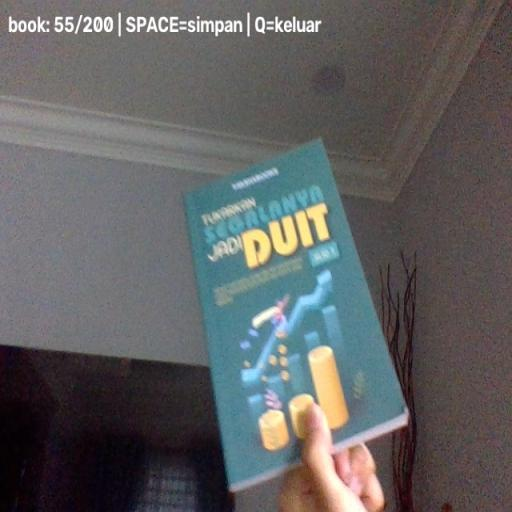Book: (184, 136, 410, 492)
